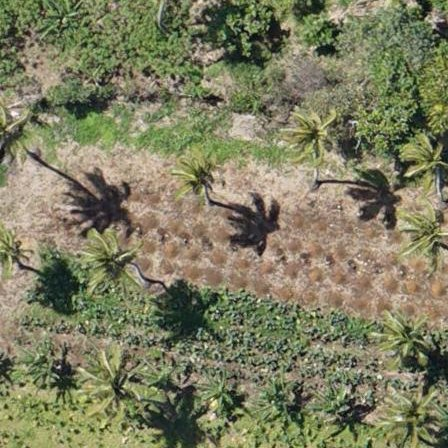palm_tree: (79, 352, 137, 415), (282, 101, 340, 162), (393, 206, 448, 270), (81, 231, 141, 289), (383, 387, 444, 443), (378, 311, 437, 365), (402, 133, 448, 195), (175, 154, 220, 200)
